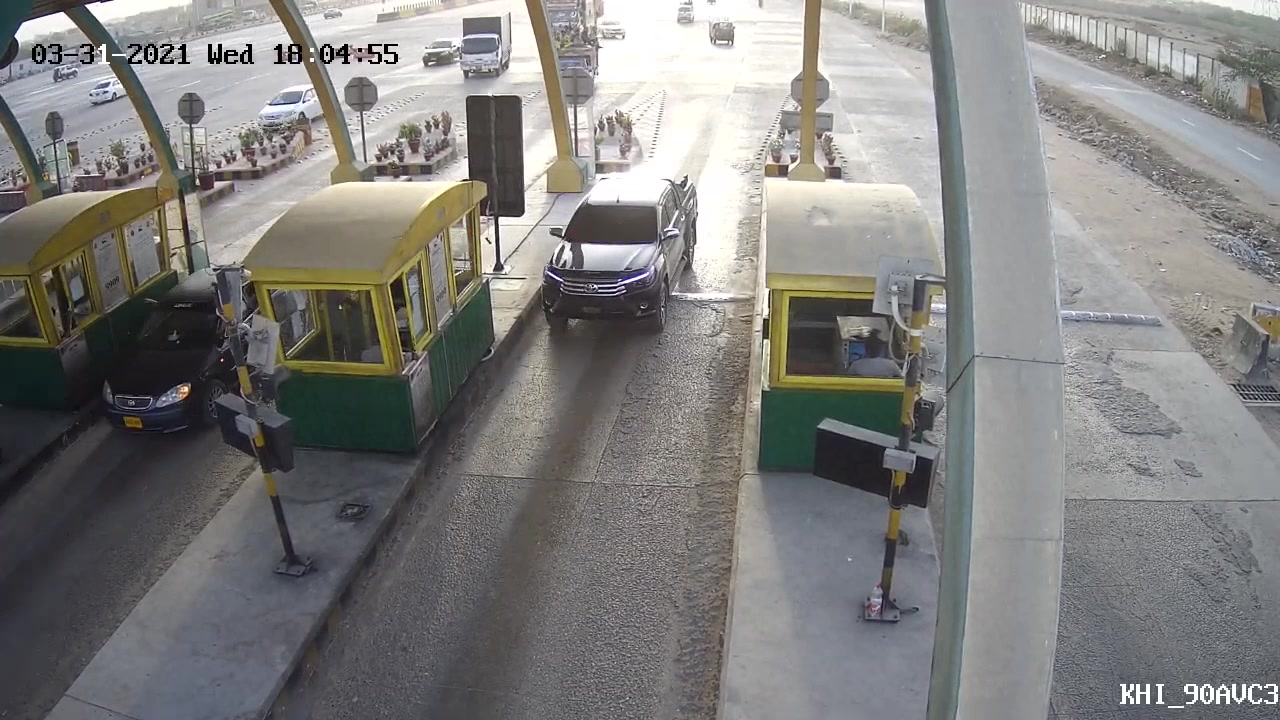F1: (531, 162, 706, 336)
